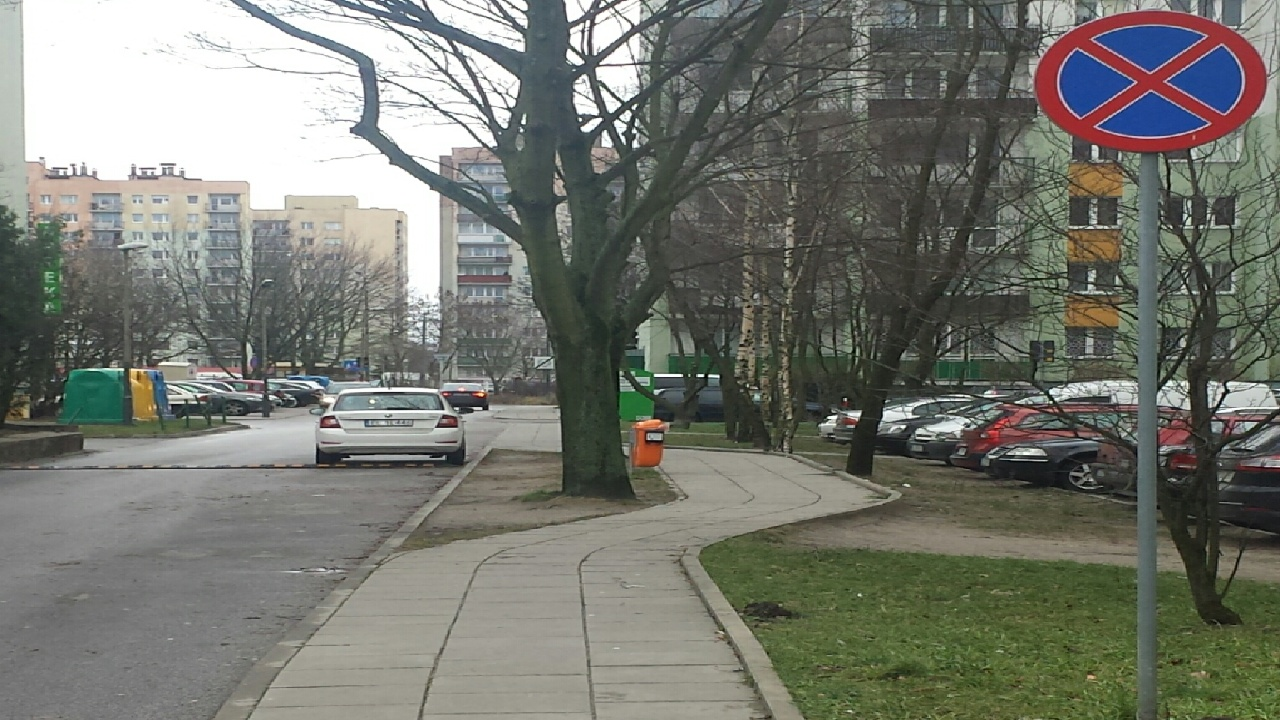B36: (1034, 11, 1266, 153)
